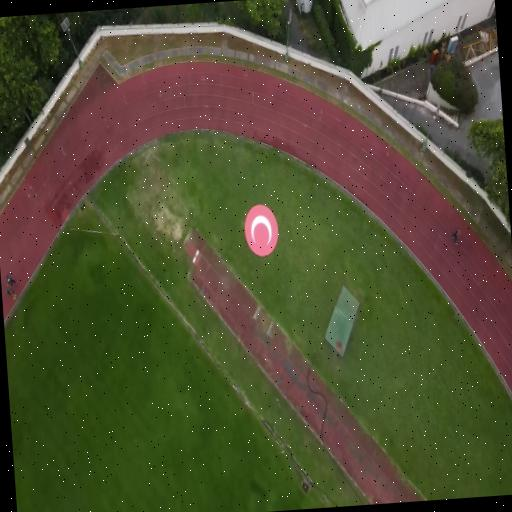UAI: (245, 204, 279, 256)
person: (6, 285, 15, 300), (450, 230, 458, 245), (6, 274, 15, 286)
